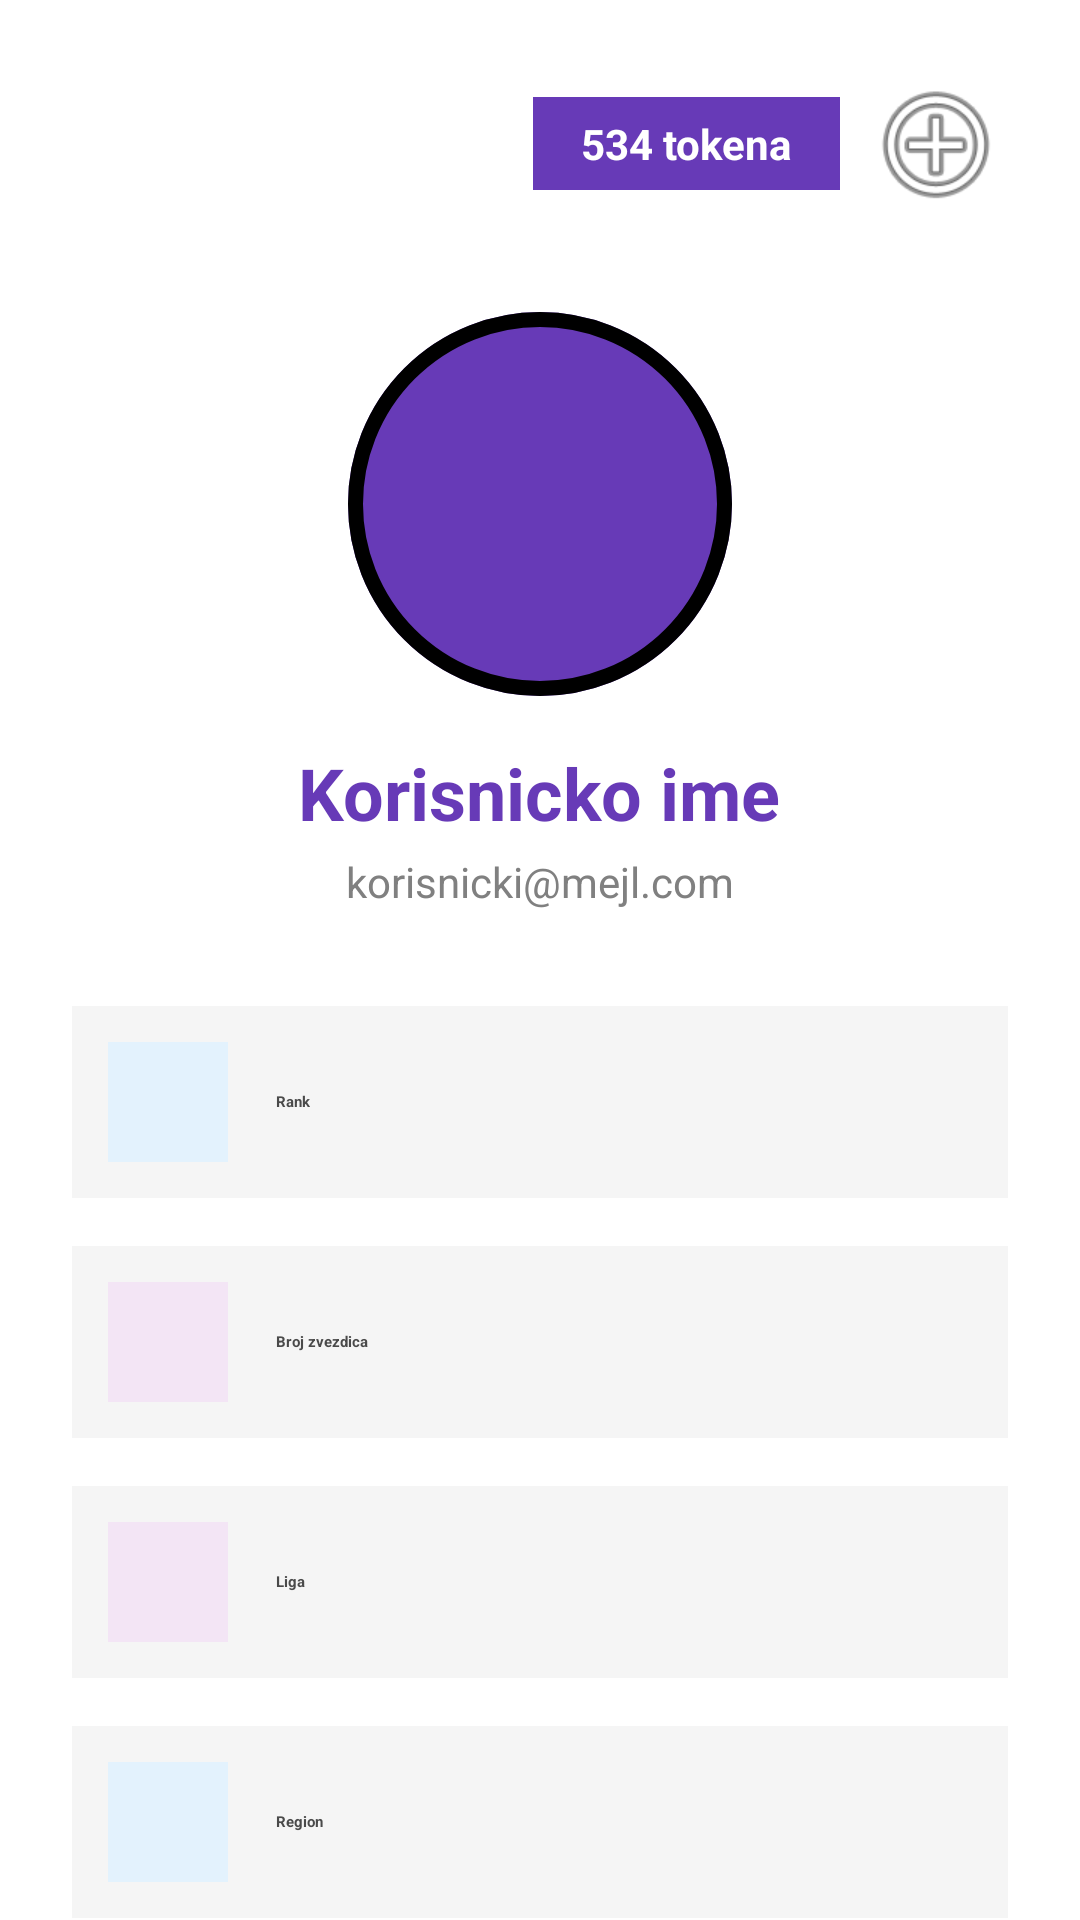

Screen size 1080 x 1920. Icon name, then its center in pixels as (x,y):
add: (936,144)
